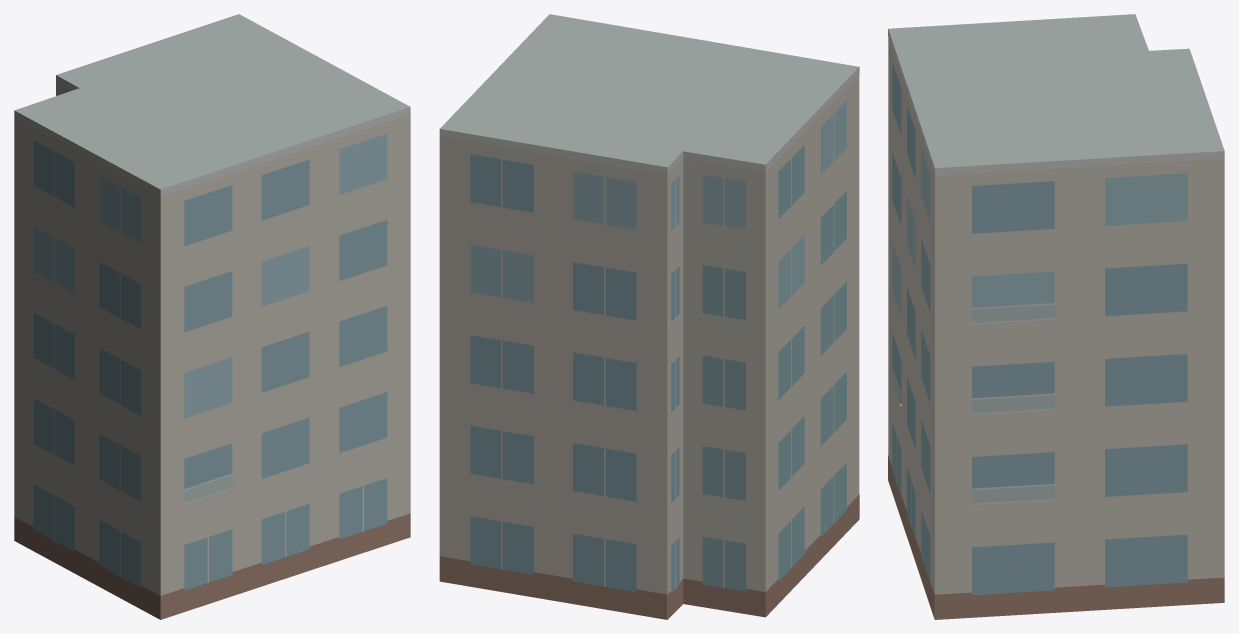
File: survey-upis-33044987.glb
The picture shows the model from 3 angles, left to right: view 1: azimuth 30°, elevation 25°; view 2: azimuth 150°, elevation 25°; view 3: azimuth 270°, elevation 25°; orthographic projection. The views are drawn at different scales.
Visible parts, largest first — view 1: survey-upis-33044987.tmp; view 2: survey-upis-33044987.tmp; view 3: survey-upis-33044987.tmp.
Boxes of the visible parts, x1,y1,x2,y2 form: survey-upis-33044987.tmp: (14, 14, 410, 619); survey-upis-33044987.tmp: (439, 14, 859, 619); survey-upis-33044987.tmp: (888, 14, 1224, 619).
Bounding box in the file's own units: 10.73 × 14.65 × 9.9.
